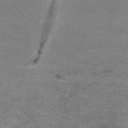finishing roll printing: (32, 0, 57, 66), (50, 73, 66, 80)
